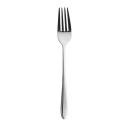Fork: (50, 2, 78, 122)
